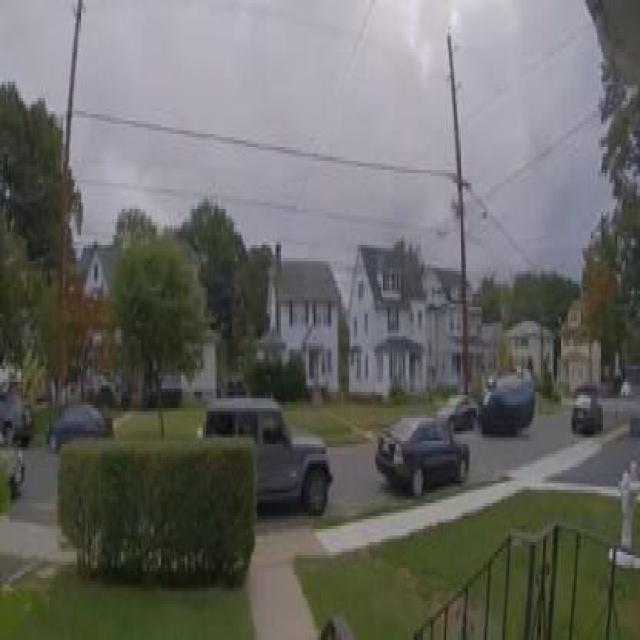accident: (477, 353, 540, 444)
